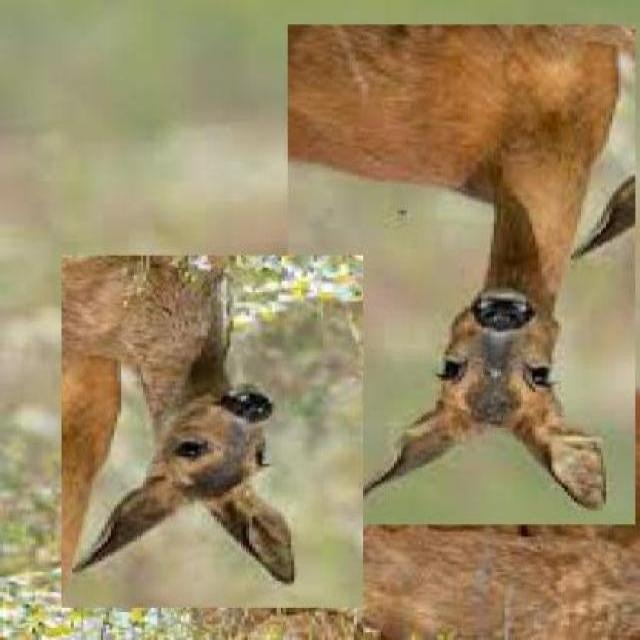deer: (288, 24, 637, 527), (62, 255, 364, 610)
